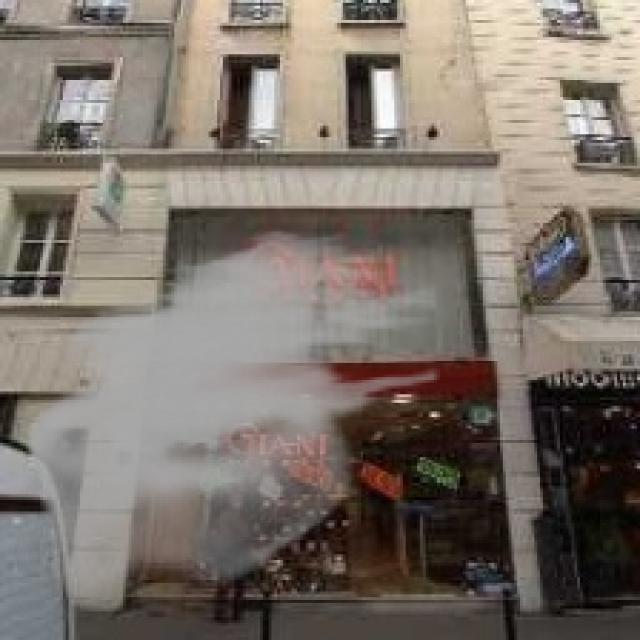Smoke: (26, 225, 440, 600)
